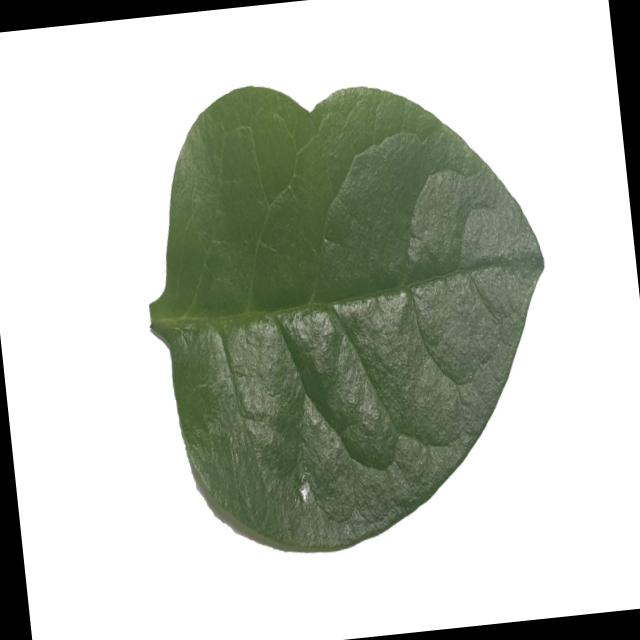Medicinal-Basale: (126, 51, 573, 570)
